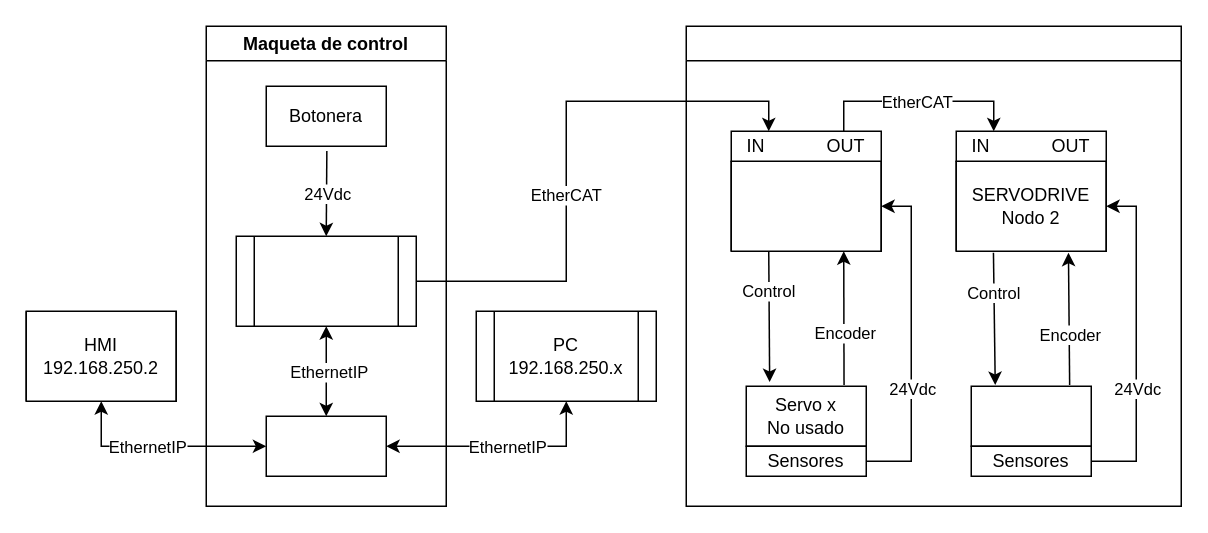
This 1208x533 diagram has some shape labels left out. Each missing label, with the box of its shape:
Mesa cartesiana: (685, 25, 1181, 506)
PLC 192.168.250.1: (235, 235, 416, 326)
Servo y Cortadora: (970, 385, 1091, 446)
SERVODRIVE Nodo 1: (730, 160, 881, 251)
Switch: (265, 415, 386, 476)
